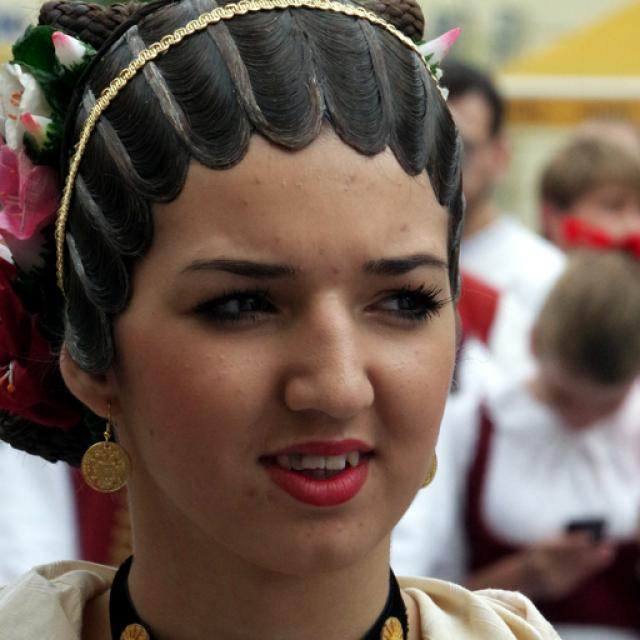Acne: (263, 173, 293, 196), (227, 189, 257, 212), (213, 349, 236, 369), (337, 178, 352, 203), (175, 360, 199, 375), (292, 180, 306, 192)
